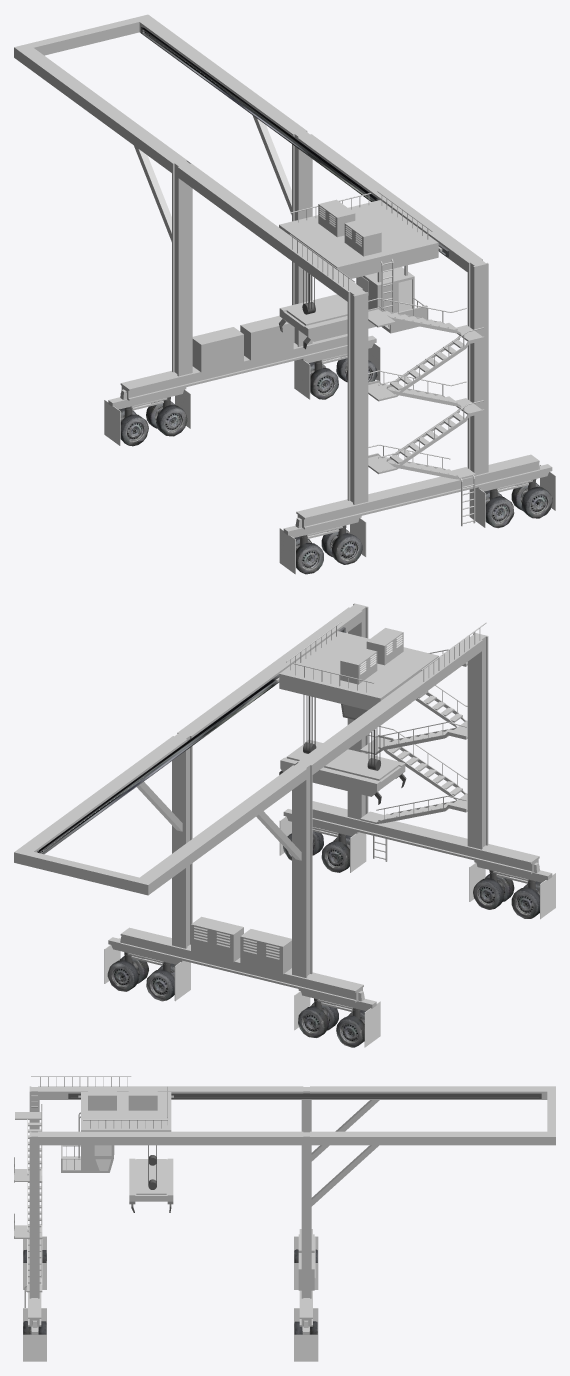
File: crane_harbour-lowpoly.glb
3 views of the same model, one above another, from view 1: azimuth 30°, elevation 25°; view 2: azimuth 150°, elevation 25°; view 3: azimuth 270°, elevation 25° (orthographic). The views are drawn at different scales.
Visible parts, largest first — view 1: Harbour Crane_0; view 2: Harbour Crane_0; view 3: Harbour Crane_0.
Boxes of the visible parts, box(x1,y1,x2,y2) form: Harbour Crane_0: box(14, 14, 555, 574); Harbour Crane_0: box(14, 603, 555, 1047); Harbour Crane_0: box(14, 1076, 555, 1361).
Size of the model in its own units: 8.98 by 9.22 by 20.62.
Materials: 4 (1 with a texture image).
